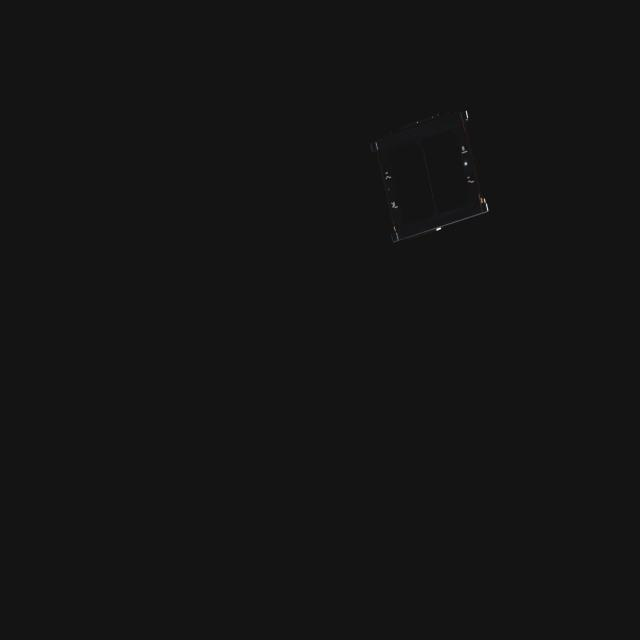satellite: (366, 94, 500, 250)
